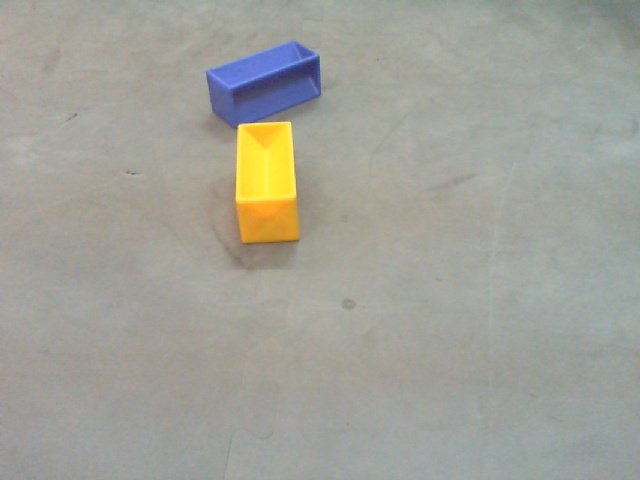BlueSample: (202, 39, 333, 125)
YellowSample: (234, 120, 303, 246)
